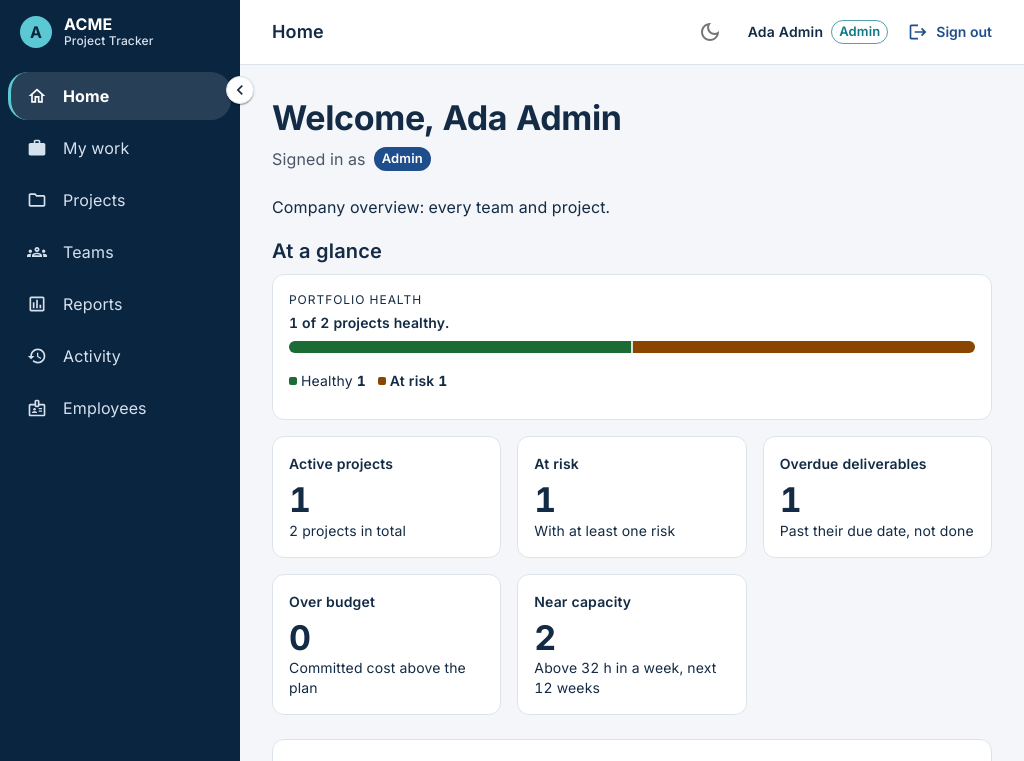
it: Home numbers open their list with the filter already on › "Overdue deliverables" opens the deliverable report with "Only overdue" on
Click the link "Overdue deliverables". click: {"x": 853, "y": 464}
box: [780,455,927,472]
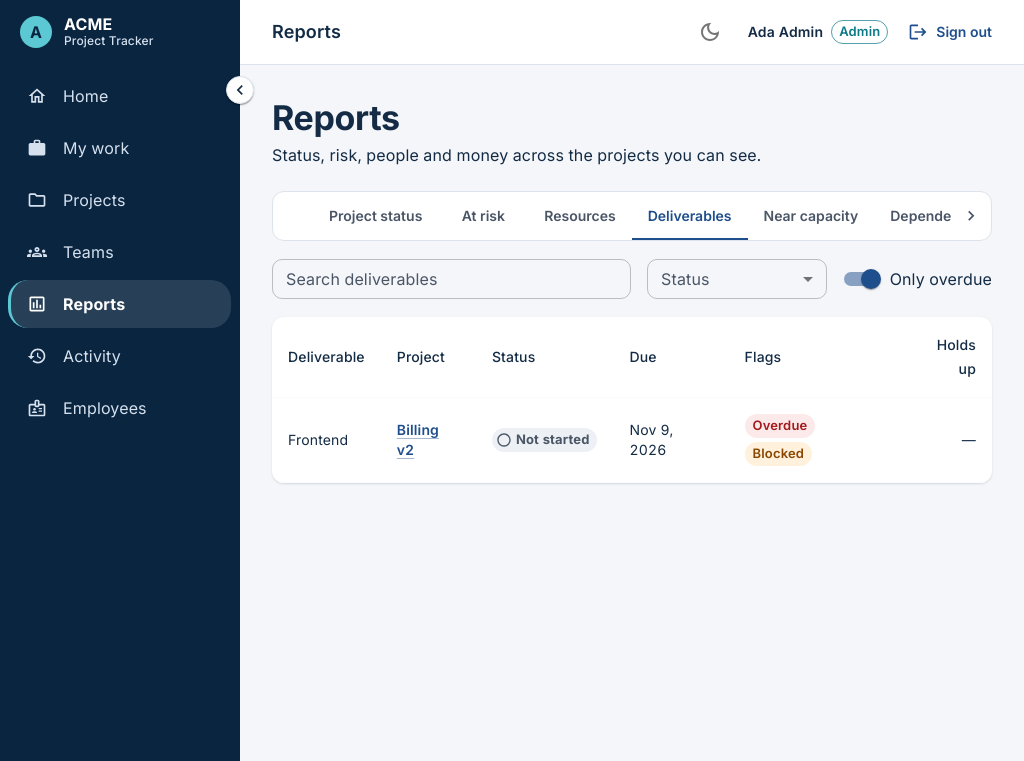
Expected: the tab "Deliverables" is shown, [632,192,748,240]
Expected: the switch labelled "Only overdue" is checked, [844,269,992,289]
Expected: the table named "Deliverable status" is shown, [272,317,992,483]
